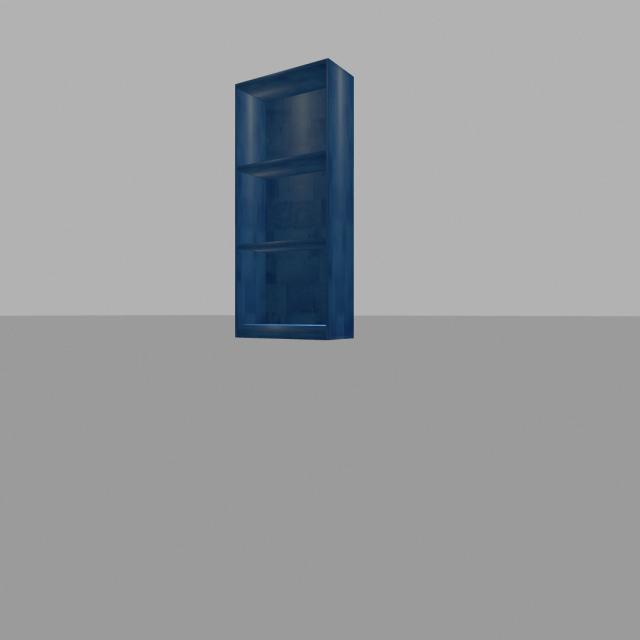shelf: (218, 48, 364, 354)
